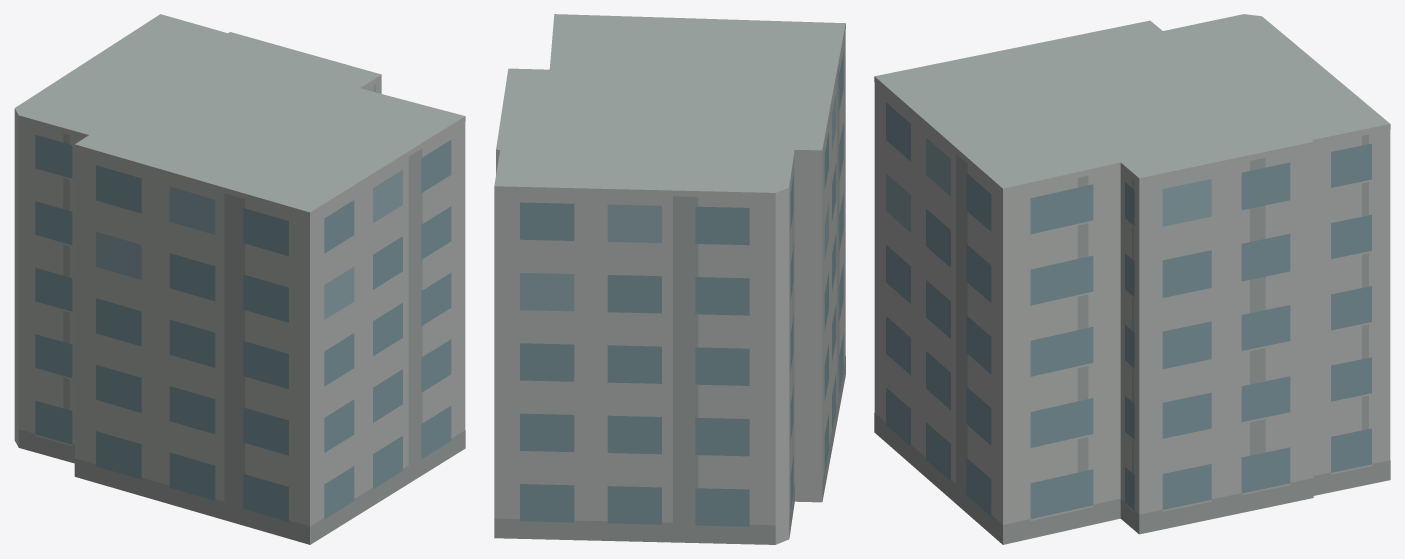
File: survey-upis-32999333.glb
3 renders of one model, left to right at view 1: azimuth 30°, elevation 25°; view 2: azimuth 150°, elevation 25°; view 3: azimuth 270°, elevation 25°, orthographic. The views are drawn at different scales.
Visible parts, largest first — view 1: survey-upis-32999333.tmp; view 2: survey-upis-32999333.tmp; view 3: survey-upis-32999333.tmp.
Boxes of the visible parts, box(x1,y1,x2,y2) form: survey-upis-32999333.tmp: box(14, 14, 465, 544); survey-upis-32999333.tmp: box(494, 14, 845, 544); survey-upis-32999333.tmp: box(874, 14, 1390, 544).
Bounding box in the file's own units: 15.48 × 14.7 × 19.31.
